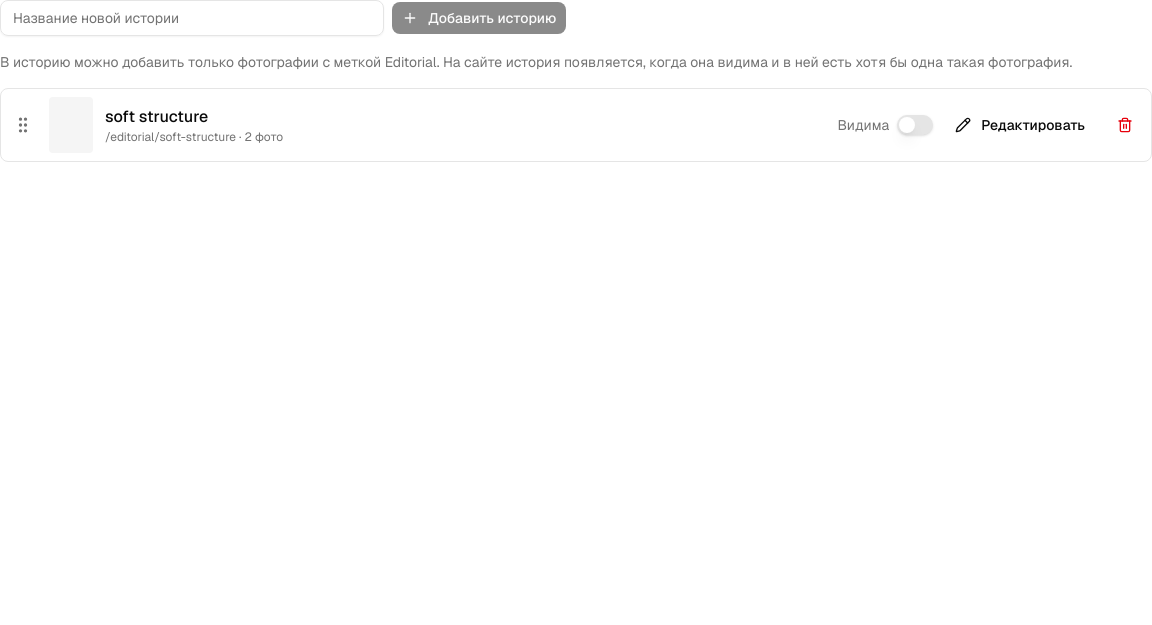
Test case: story editor › saves title, slug, subtitle and the credit rows as typed and reports success
Click the button "Редактировать": (1020, 125) [945,109,1095,141]
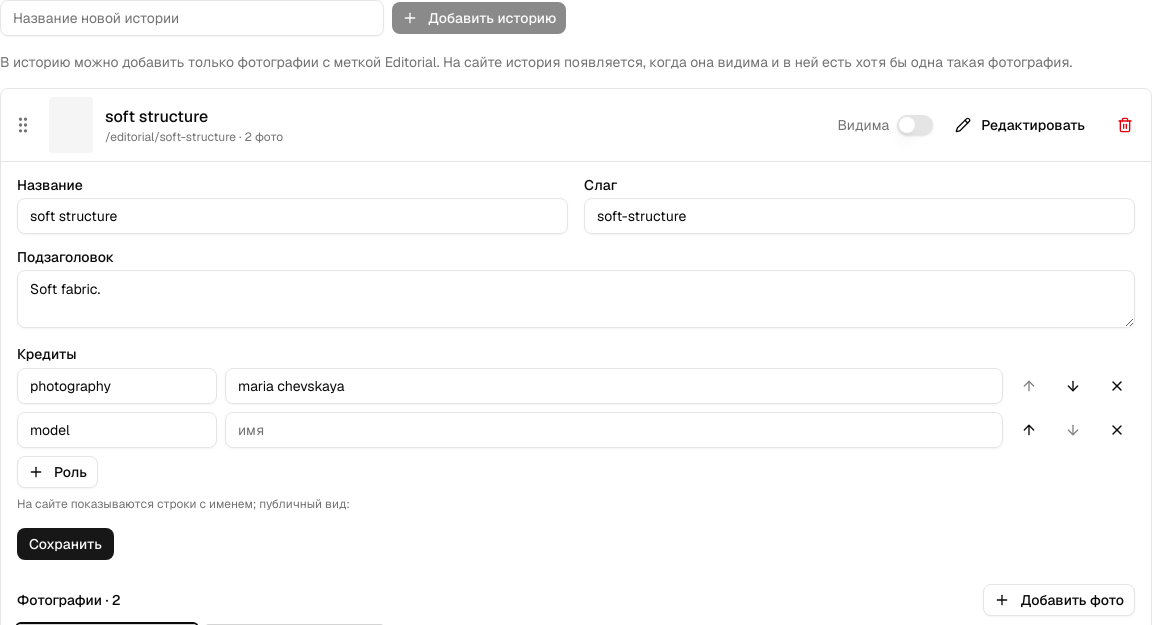
Replace the text in the field labelled "Слаг" with "soft-structure-2": (860, 216) [584,198,1135,234]
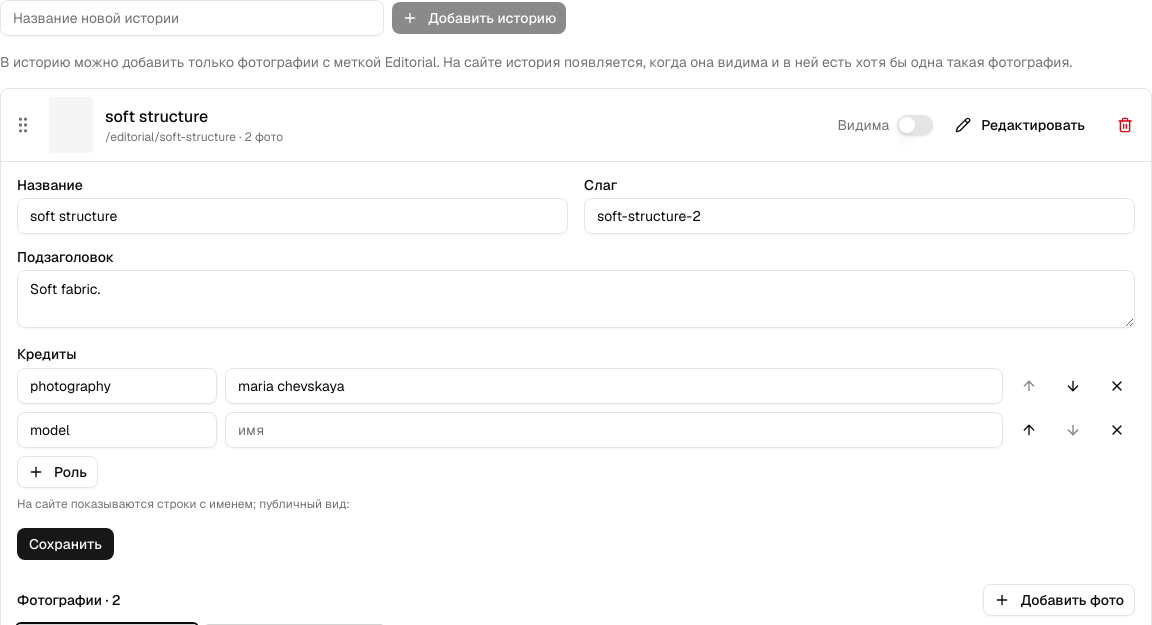
Replace the text in the text box labelled "Подзаголовок" with "New line": (576, 299) [17,270,1135,328]
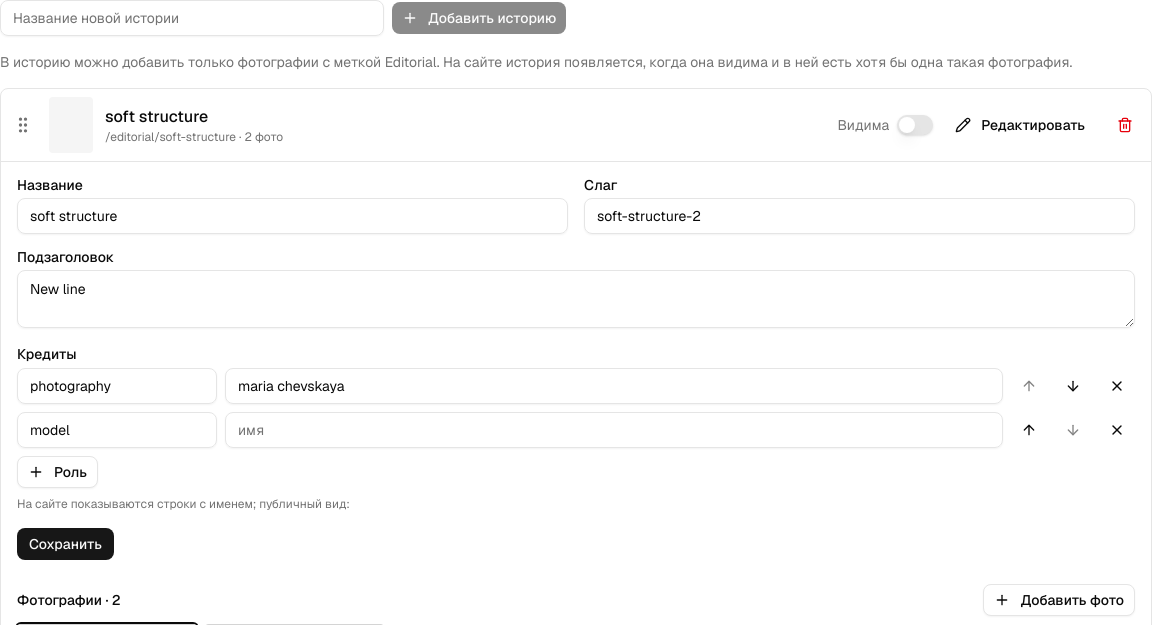
In the field named "Имя 2": (614, 430) [225,412,1003,448], type "Eva"
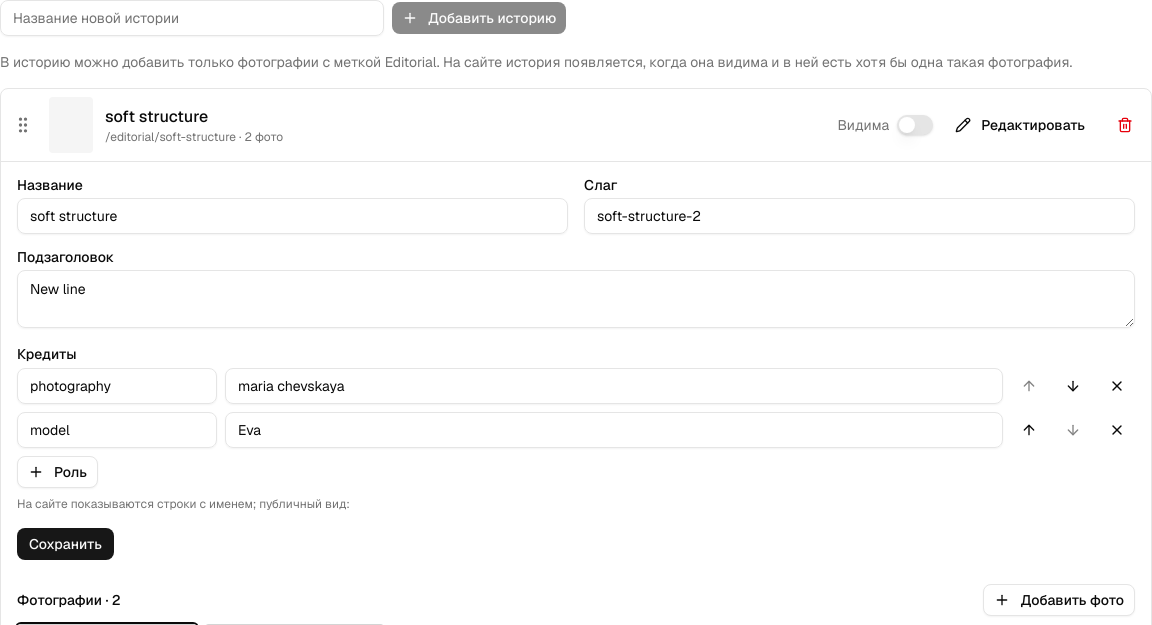
Click the button "Сохранить": (65, 544) [17,528,114,560]
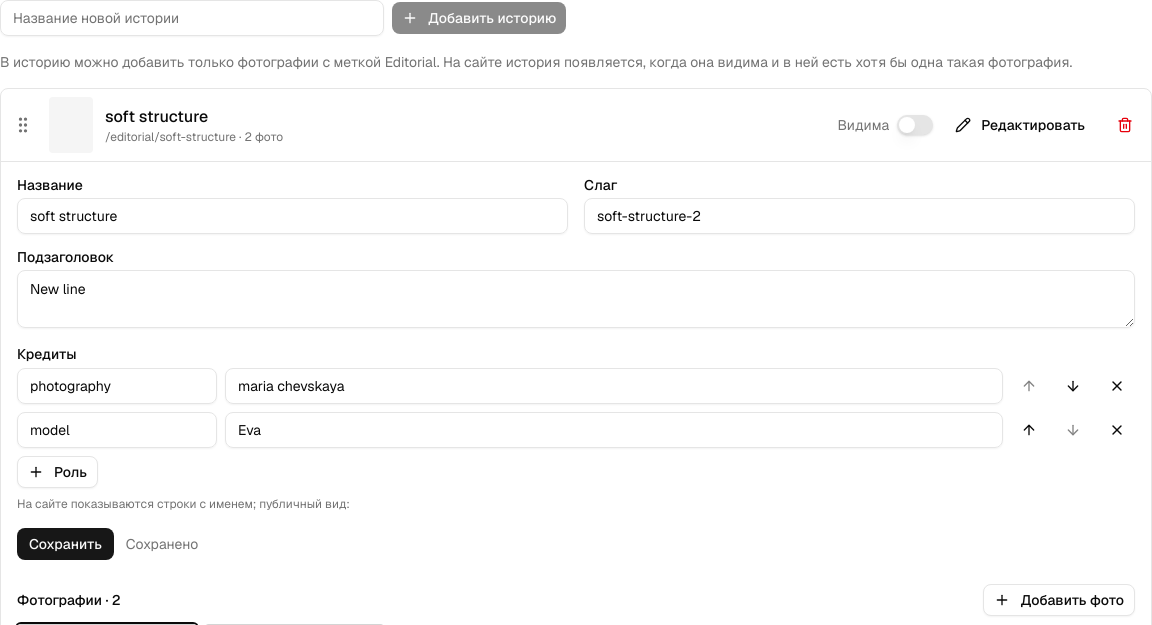
Result: the message reads "Сохранено" at [126,535,198,553]
